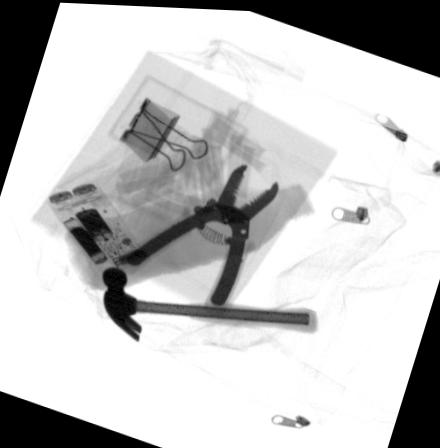Hammer: (101, 265, 316, 340)
Pliers: (124, 161, 277, 309)
